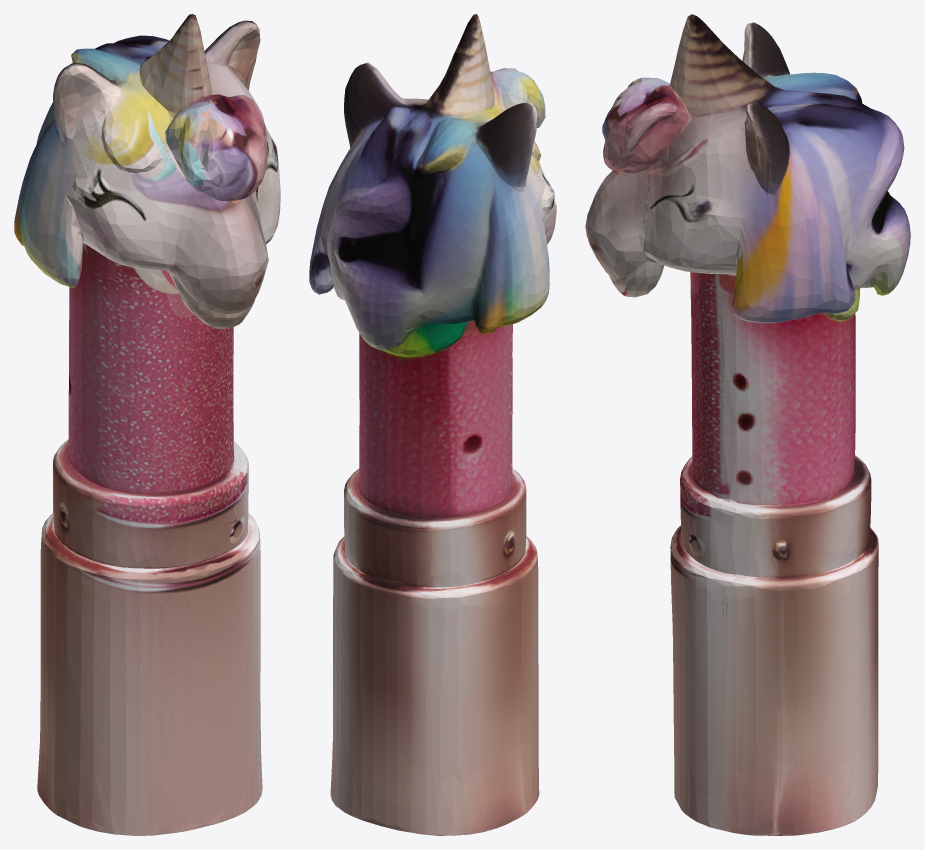
Rendered from unicorn.glb.
3 views of the same model, side by side, from view 1: azimuth 30°, elevation 25°; view 2: azimuth 150°, elevation 25°; view 3: azimuth 270°, elevation 25° (orthographic). The views are drawn at different scales.
Parts seen in each view (by area): view 1: world; view 2: world; view 3: world.
Part boxes in pixels (<box>): world: <box>14,14,280,835</box>; world: <box>309,14,556,835</box>; world: <box>585,14,910,835</box>.
Bounding box in the file's own units: 0.2891 × 1 × 0.38.
1 material, 1 textured.
